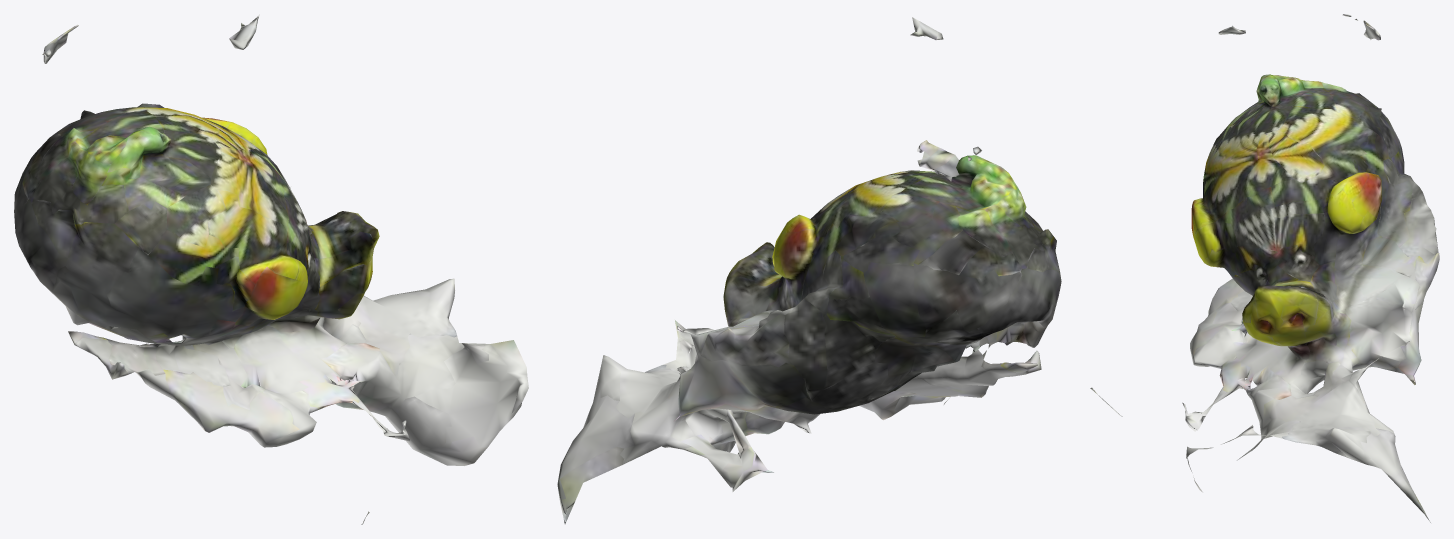
The model's file is hall.glb.
3 views of the same model, side by side, from view 1: azimuth 30°, elevation 25°; view 2: azimuth 150°, elevation 25°; view 3: azimuth 270°, elevation 25° (orthographic). The views are drawn at different scales.
Bounding box in the file's own units: 1.08 × 1.16 × 0.9067.
Materials: 1 (1 with a texture image).
